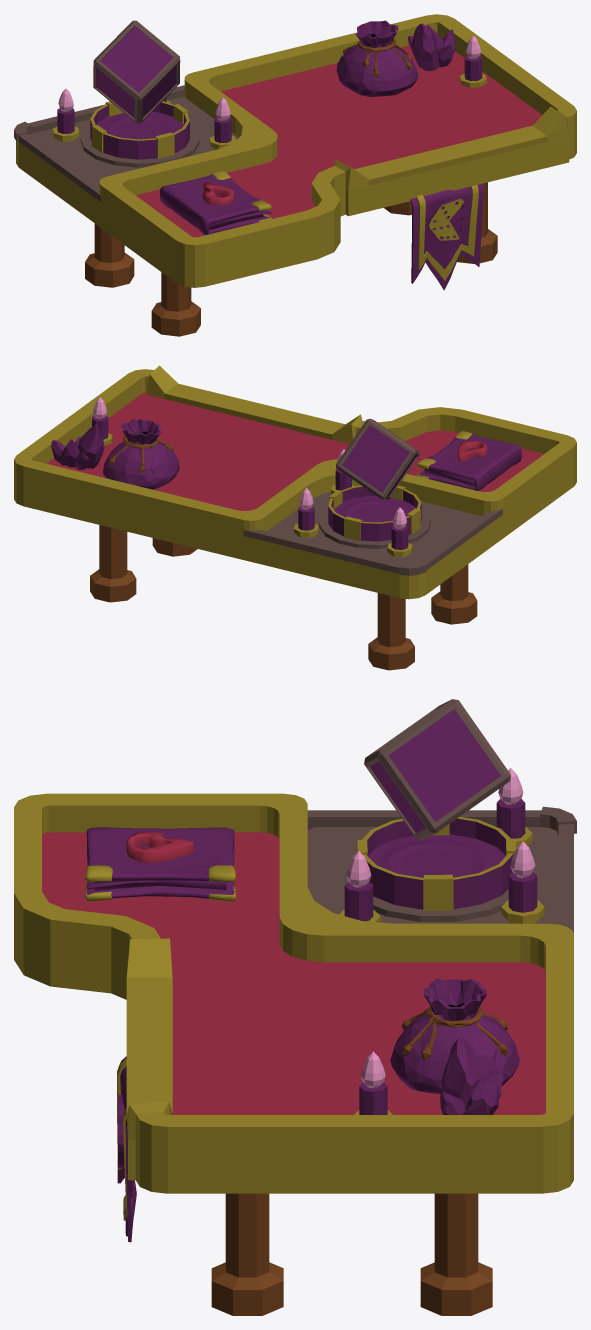
The model's file is MesaEncantamientosv02.fbx.
3 renders of one model, top to bottom at view 1: azimuth 30°, elevation 25°; view 2: azimuth 150°, elevation 25°; view 3: azimuth 270°, elevation 25°, orthographic. The views are drawn at different scales.
Visible parts, largest first — view 1: MesaEncantamientos.001; view 2: MesaEncantamientos.001; view 3: MesaEncantamientos.001.
Boxes of the visible parts, left/top/right/bottom form: MesaEncantamientos.001: left=14, top=14, right=576, bottom=336; MesaEncantamientos.001: left=14, top=365, right=576, bottom=670; MesaEncantamientos.001: left=14, top=699, right=576, bottom=1315.
Bounding box in the file's own units: 3.7 × 2.03 × 2.63.
